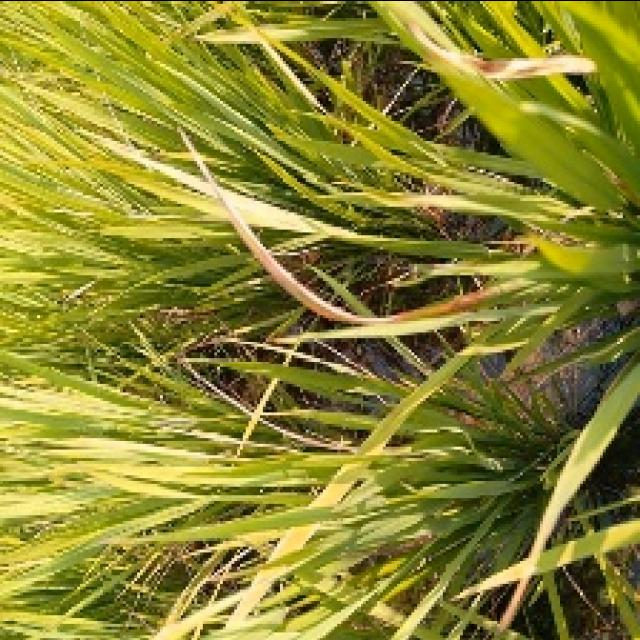Unhealthy: (469, 56, 543, 76), (443, 286, 485, 316)
